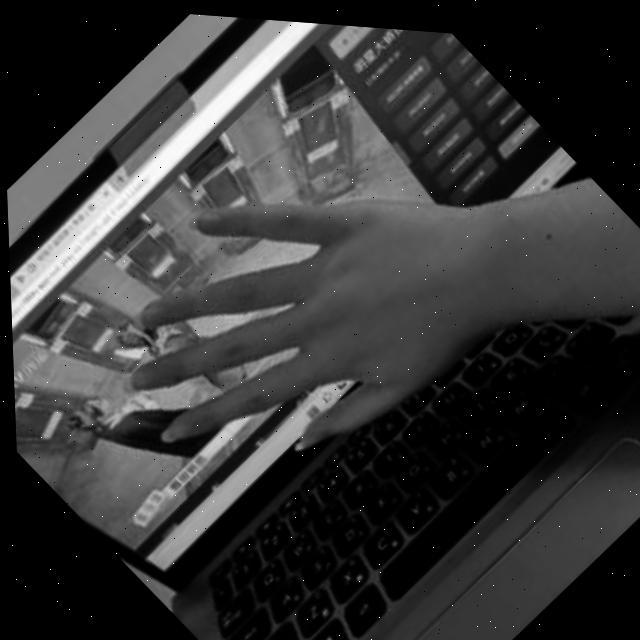no-gloves: (54, 69, 529, 558)
